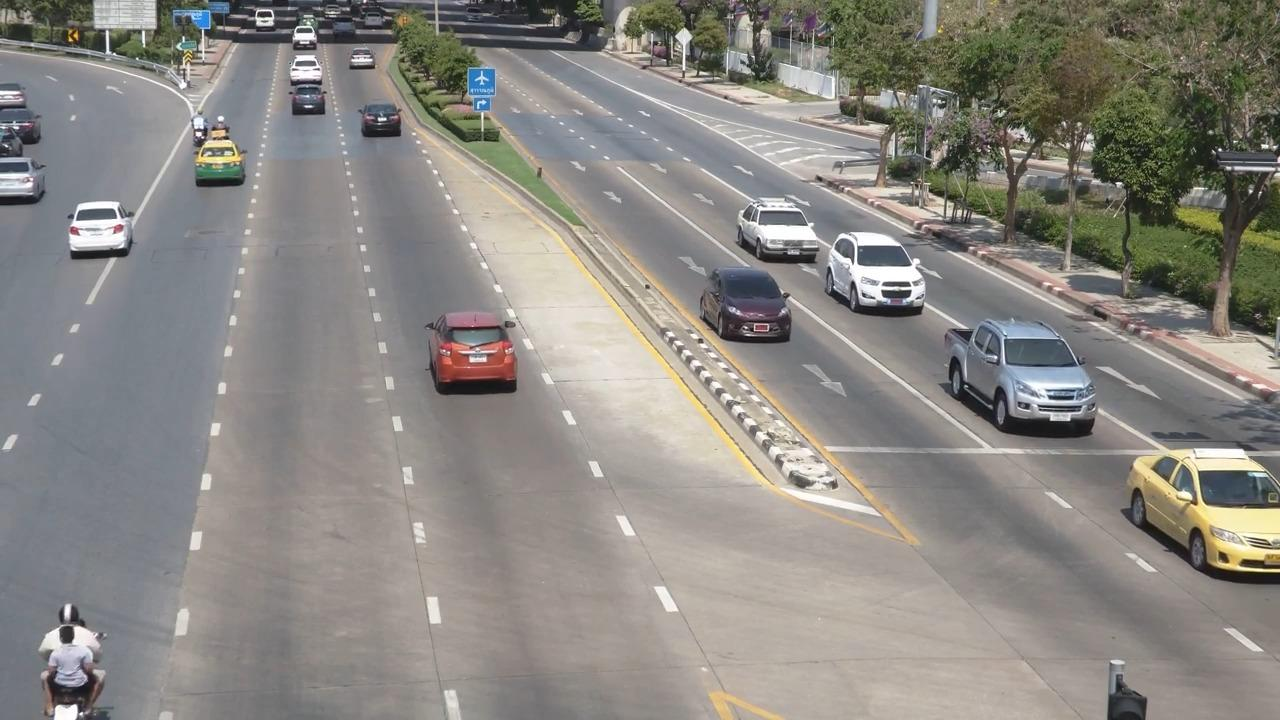CAR: (1106, 444, 1280, 584), (951, 312, 1104, 441), (415, 293, 532, 406), (821, 228, 930, 322), (696, 259, 797, 346), (731, 190, 825, 270), (59, 187, 148, 263), (186, 134, 261, 193), (354, 95, 425, 150), (281, 81, 347, 128), (0, 153, 52, 210), (284, 87, 345, 134), (339, 41, 385, 79), (325, 15, 370, 51), (287, 20, 329, 56), (283, 55, 327, 88), (248, 3, 286, 37), (2, 79, 28, 125), (291, 11, 322, 39)
MOTOR: (16, 585, 125, 720), (179, 99, 213, 146), (209, 111, 242, 153)
